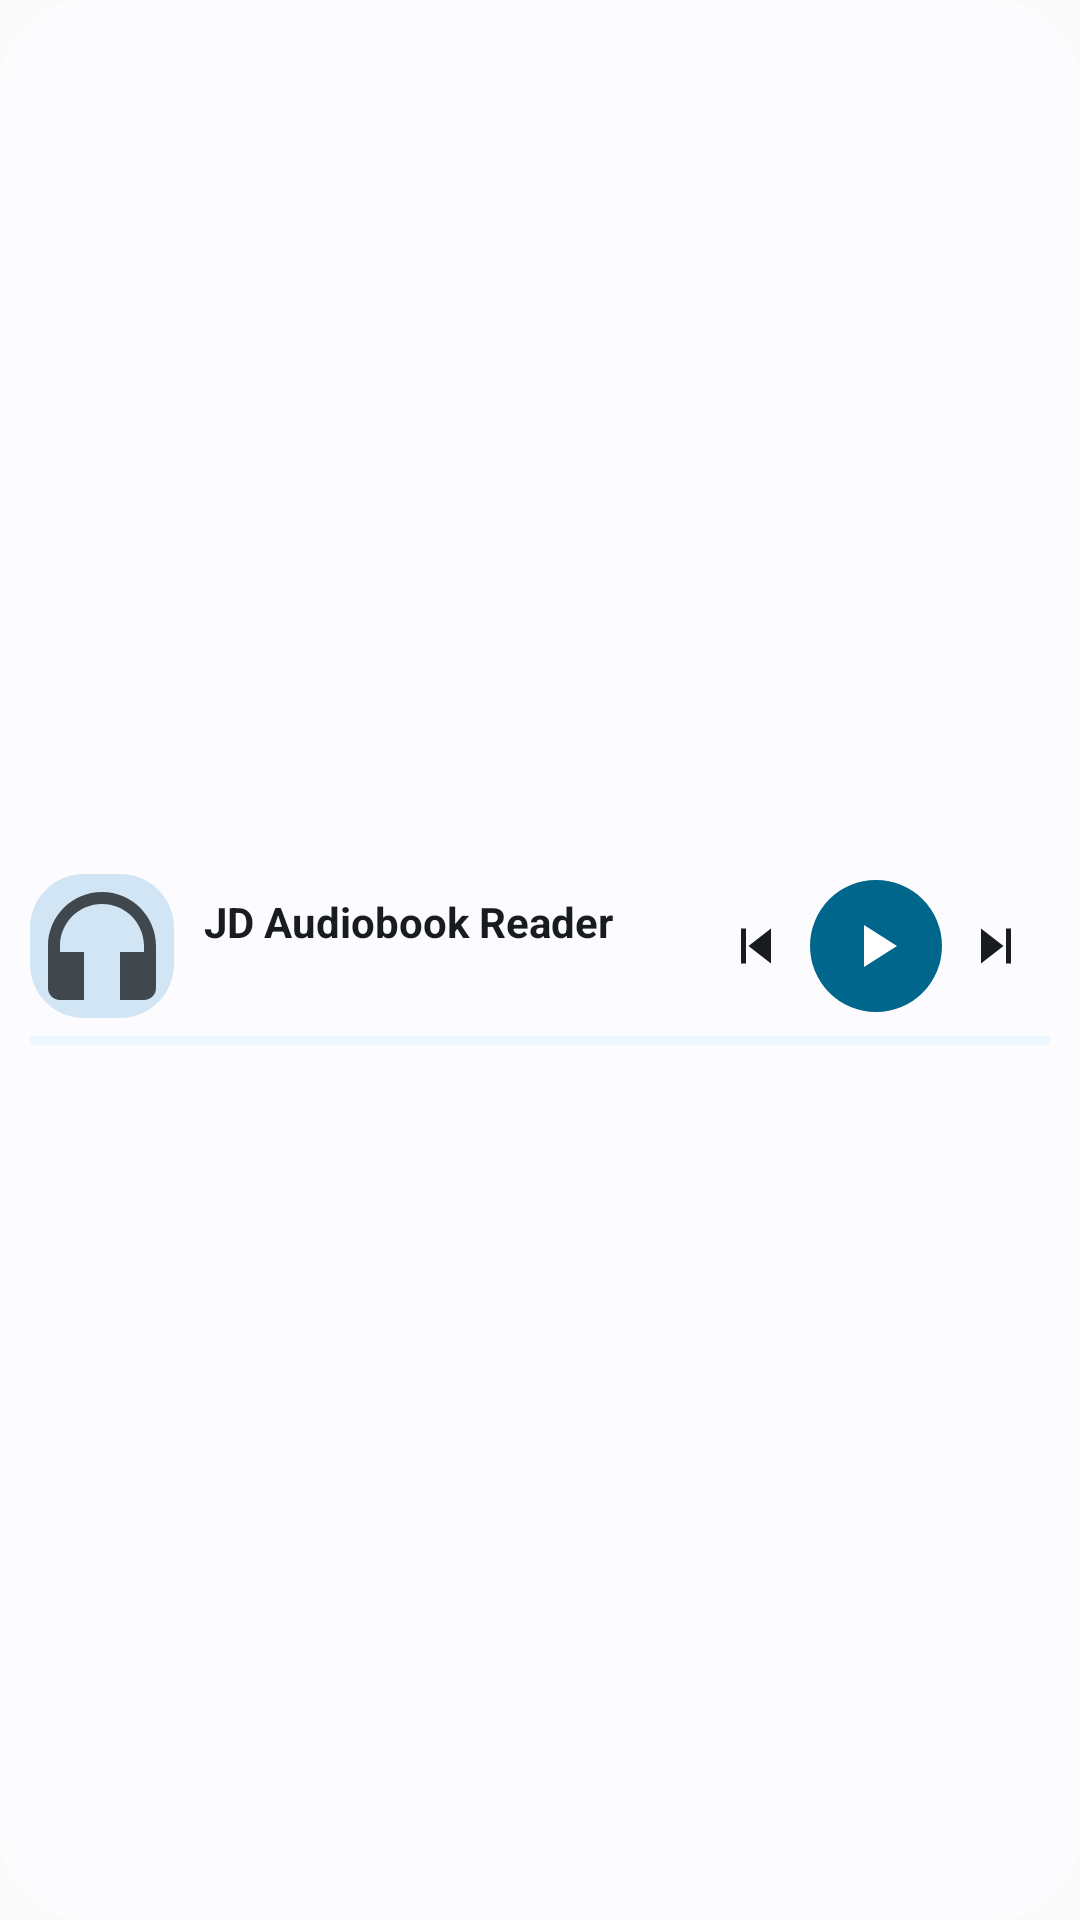

Named icons in this screenshot (1080px×1920px) and their bounding boxes, (x1,y1,x2,y2):
Next: (981,928,1011,964)
Play: (810,880,942,1012)
Previous: (741,928,771,964)
